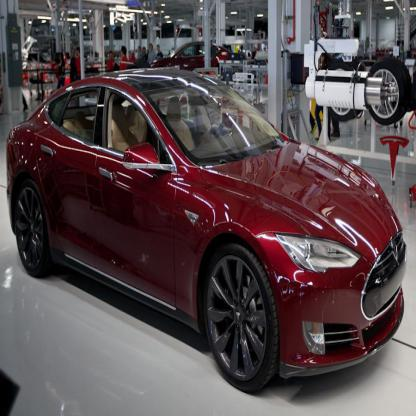Vehicle: (6, 71, 407, 393)
